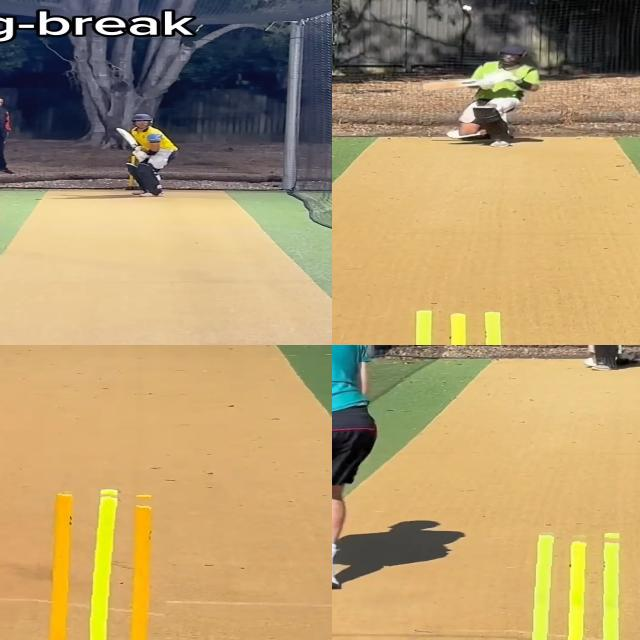Cricket ball: (462, 4, 474, 11)
Stumps: (38, 487, 171, 640), (517, 528, 640, 640), (393, 307, 528, 345)
